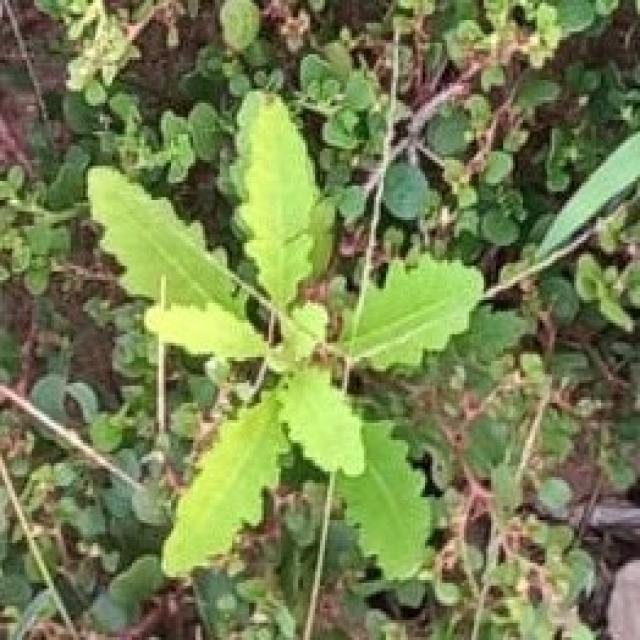weed: (88, 94, 430, 580), (342, 257, 484, 367)
